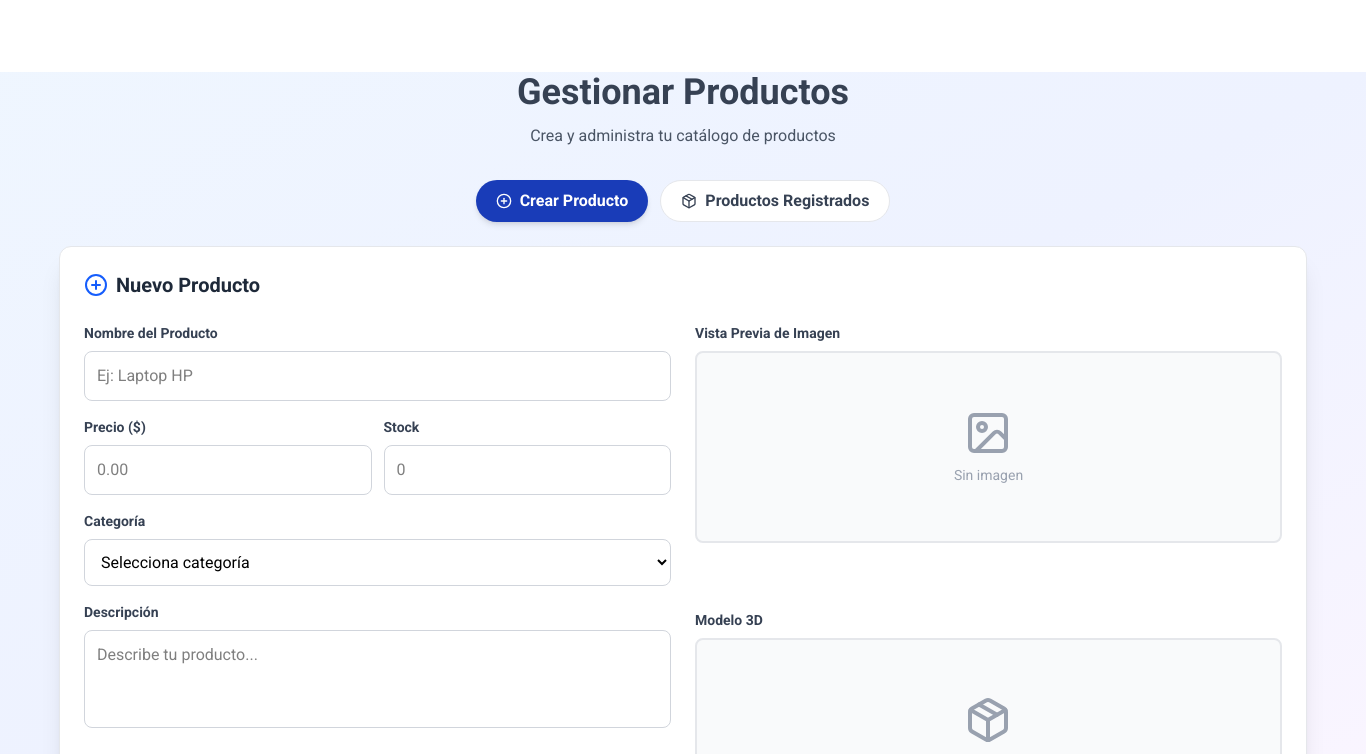
Test: Productos Registrados - Vendedor › Muestra los productos en la pestaña de registrados
The image size is (1366, 754).
Click the button "Productos Registrados". click: (775, 201)
box: [660, 180, 890, 222]
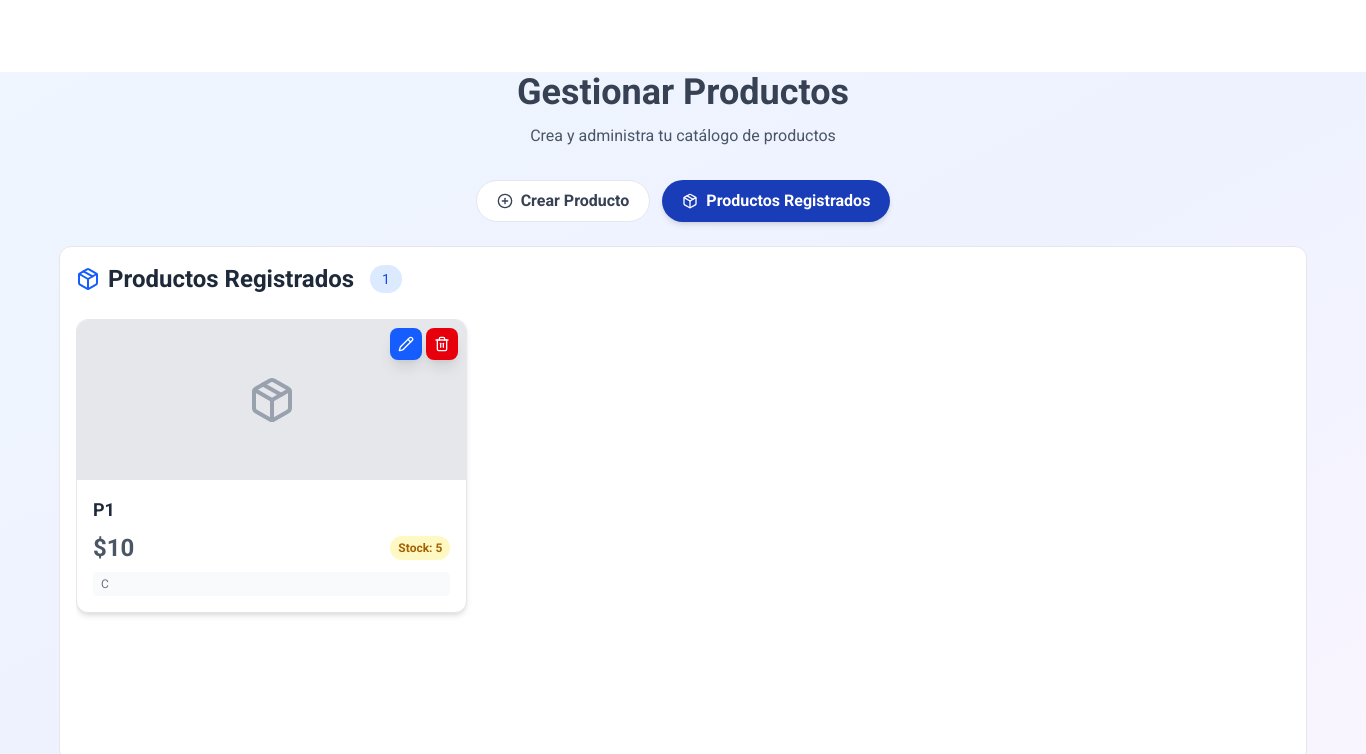
Expected: the button "P1" is shown, [93, 496, 450, 524]
